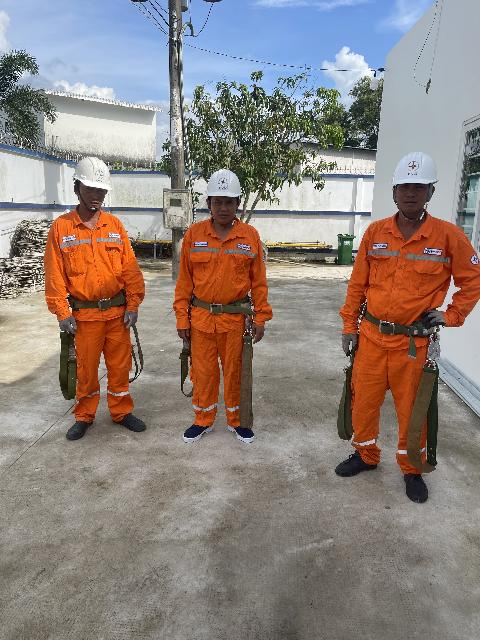gloves: (426, 299, 449, 335), (336, 330, 363, 356), (55, 316, 87, 337)
harness: (187, 292, 257, 321), (367, 311, 420, 342), (67, 293, 131, 316)
helmet: (69, 153, 118, 193), (392, 153, 441, 190), (206, 170, 248, 204)
shoes: (393, 461, 430, 516), (332, 446, 377, 484), (61, 412, 96, 450), (105, 411, 149, 438), (180, 419, 213, 449), (223, 423, 258, 449)
